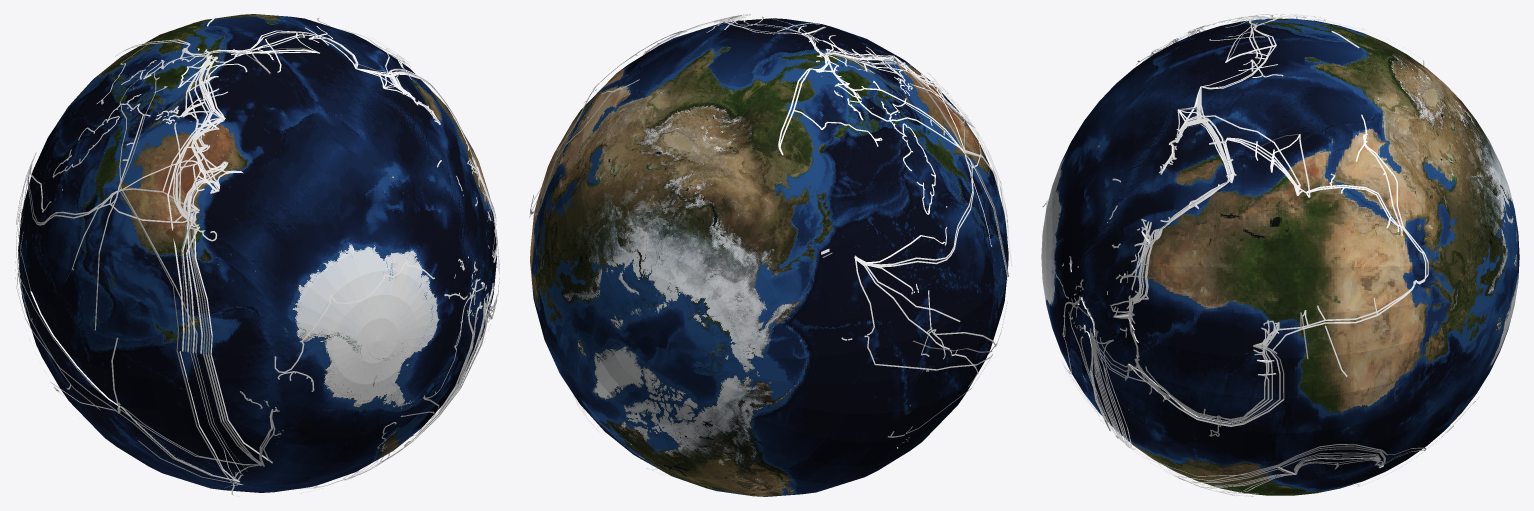
The model's file is globe_ribbons.gltf.
3 renders of one model, left to right at view 1: azimuth 30°, elevation 25°; view 2: azimuth 150°, elevation 25°; view 3: azimuth 270°, elevation 25°, orthographic.
Visible parts, largest first — view 1: Renderer Node; view 2: Renderer Node; view 3: Renderer Node.
Part boxes in pixels (x1,y1,x2,y2): Renderer Node: (15, 14, 499, 496); Renderer Node: (529, 14, 1012, 496); Renderer Node: (1041, 14, 1519, 496).
Bounding box in the file's own units: 6008 × 6004 × 5900.
2 materials, 1 textured.
